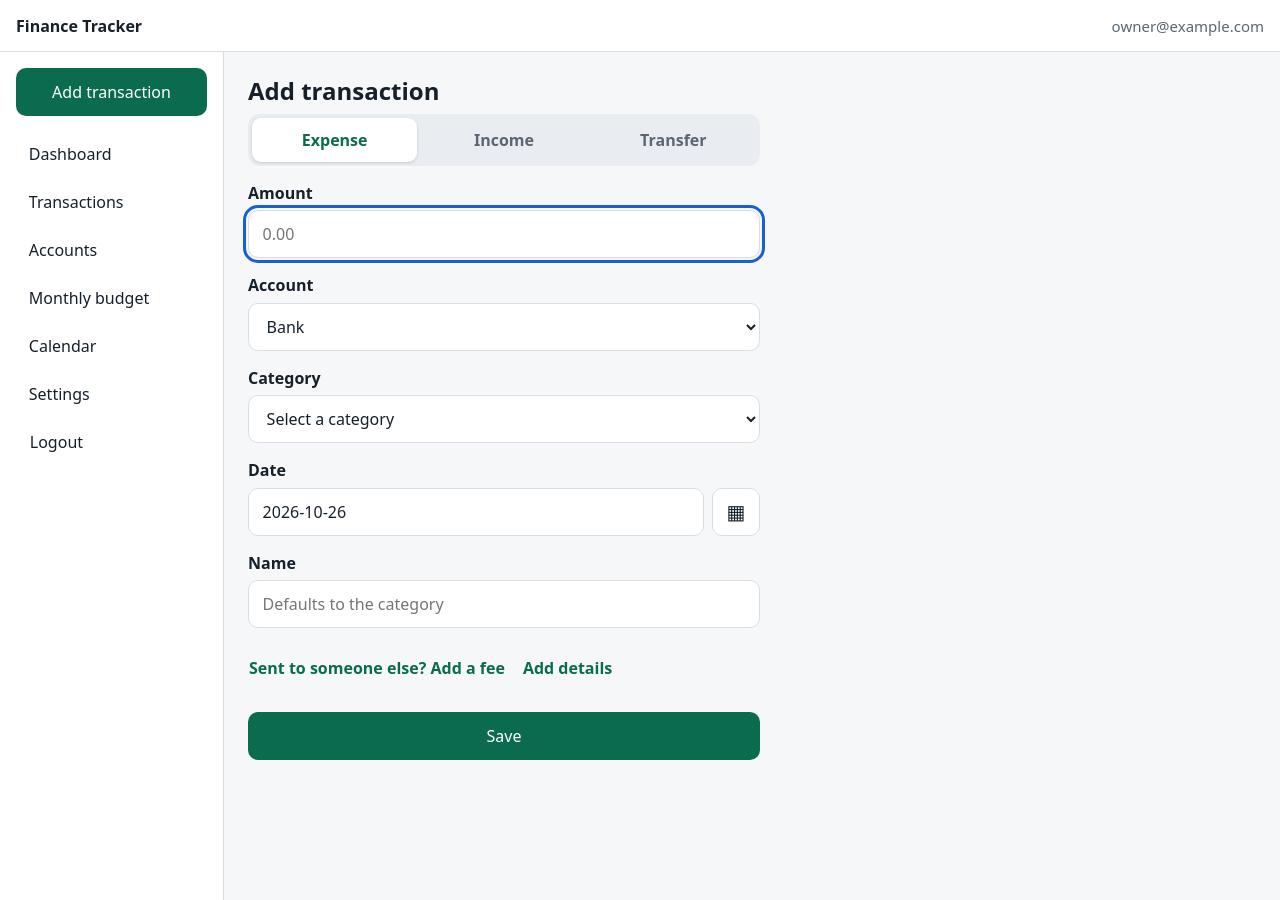
transfer form › sends a transfer with no fee, naming it from the two accounts when the name is blank
Click the radio button labelled "Transfer" at {"x": 673, "y": 140}, box [591, 118, 756, 162]
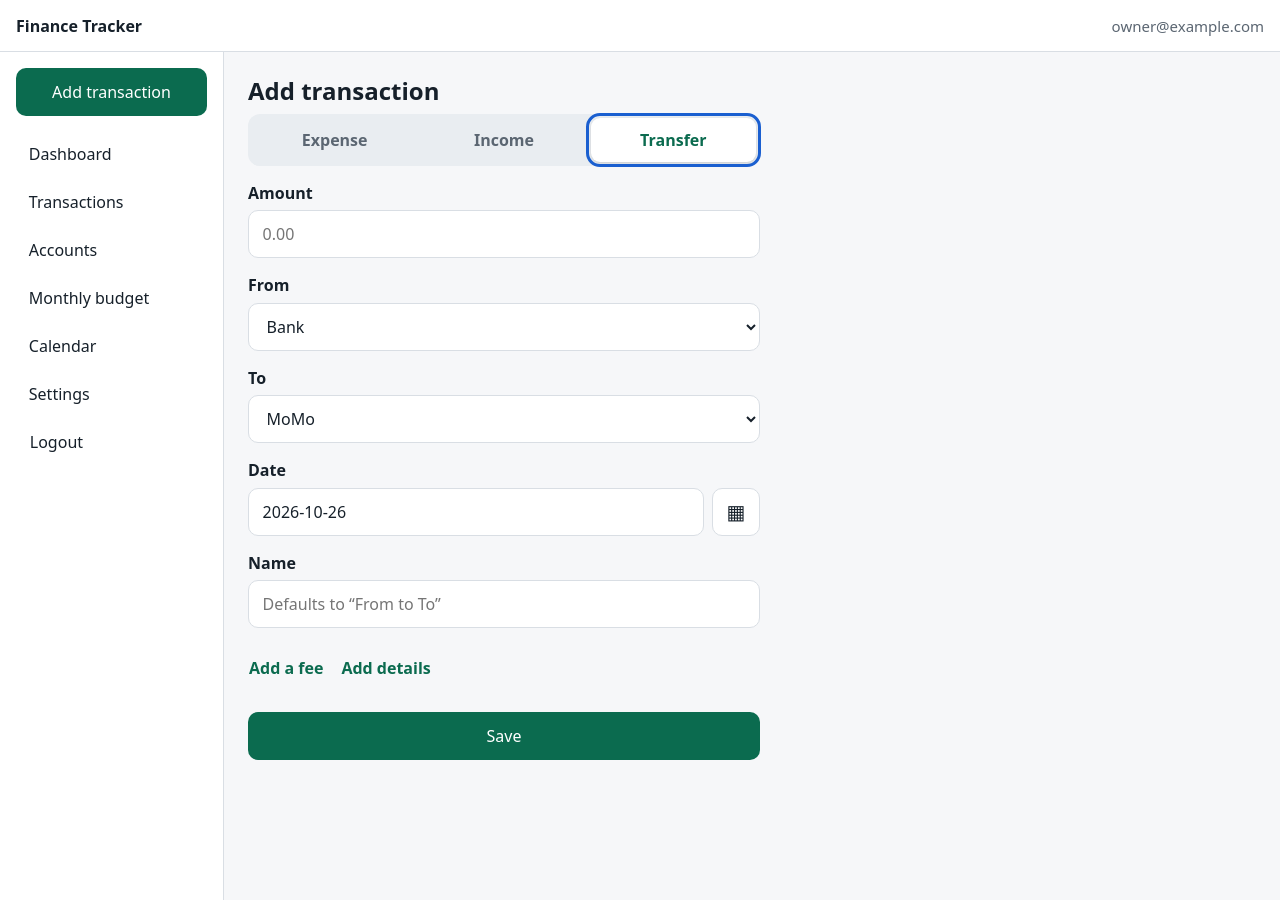
Expected: the dropdown labelled "From" shows "Bank", [248, 303, 760, 351]
Type "500" into the field labelled "Amount" at {"x": 504, "y": 234}, box [248, 210, 760, 258]
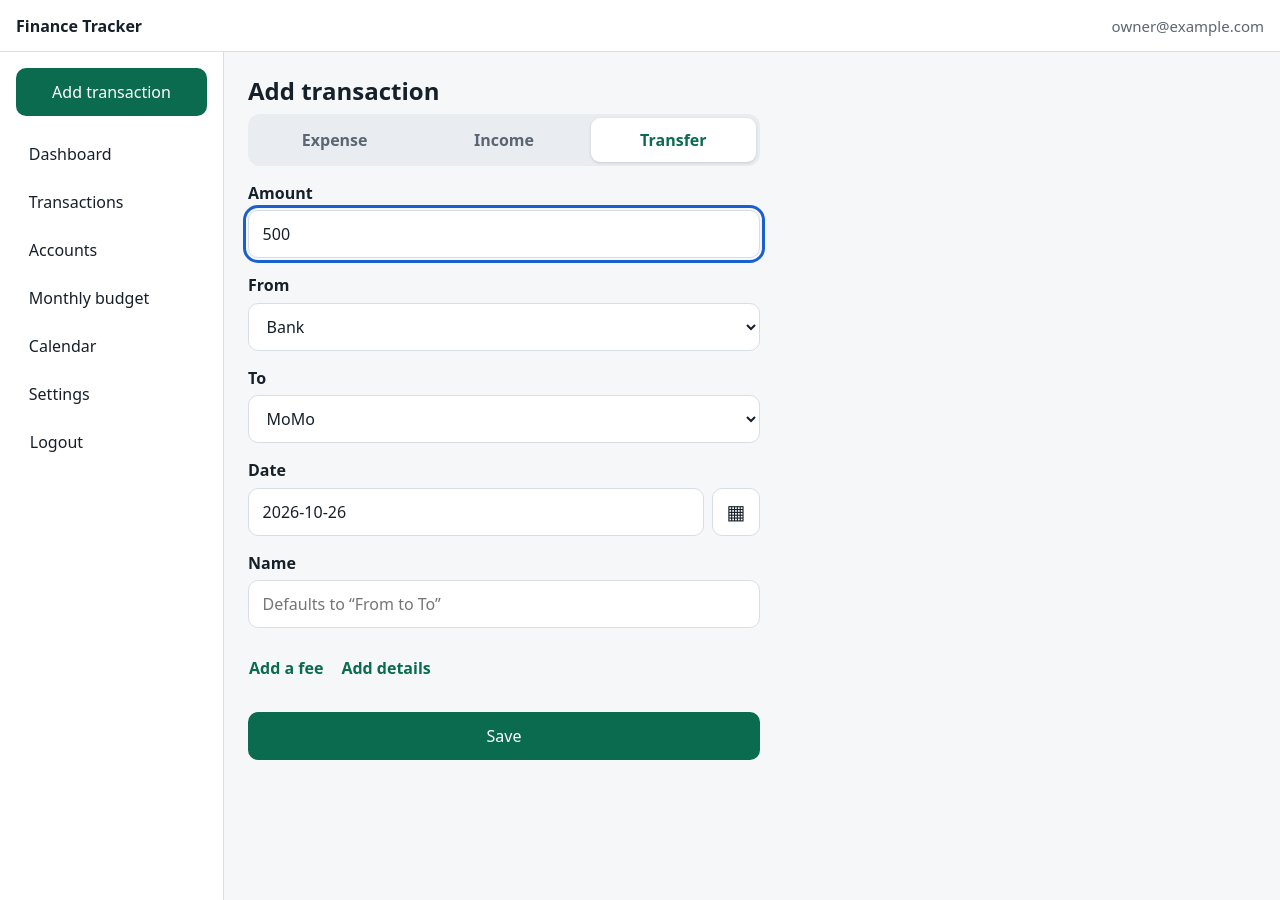
Click the button "Save" at {"x": 504, "y": 736}, box [248, 712, 760, 760]
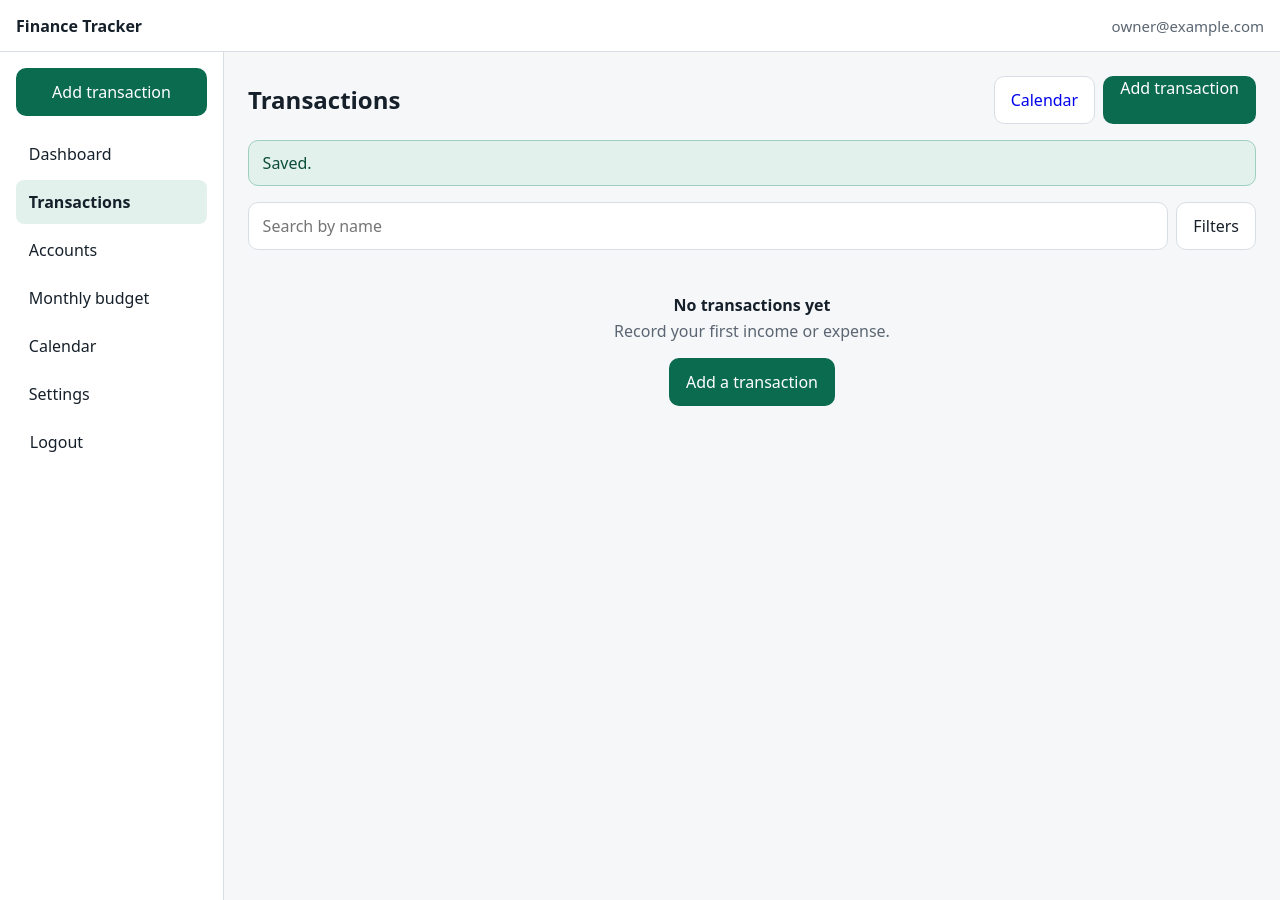
Expected: the heading "Transactions" is shown, [248, 85, 400, 115]
